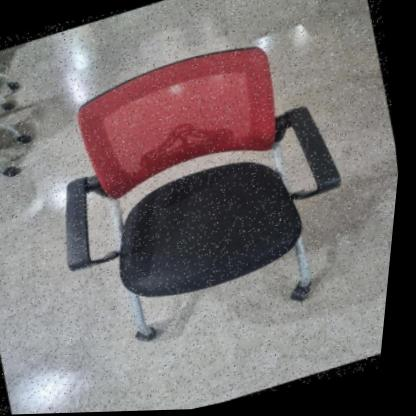Chair: (0, 0, 415, 395)
